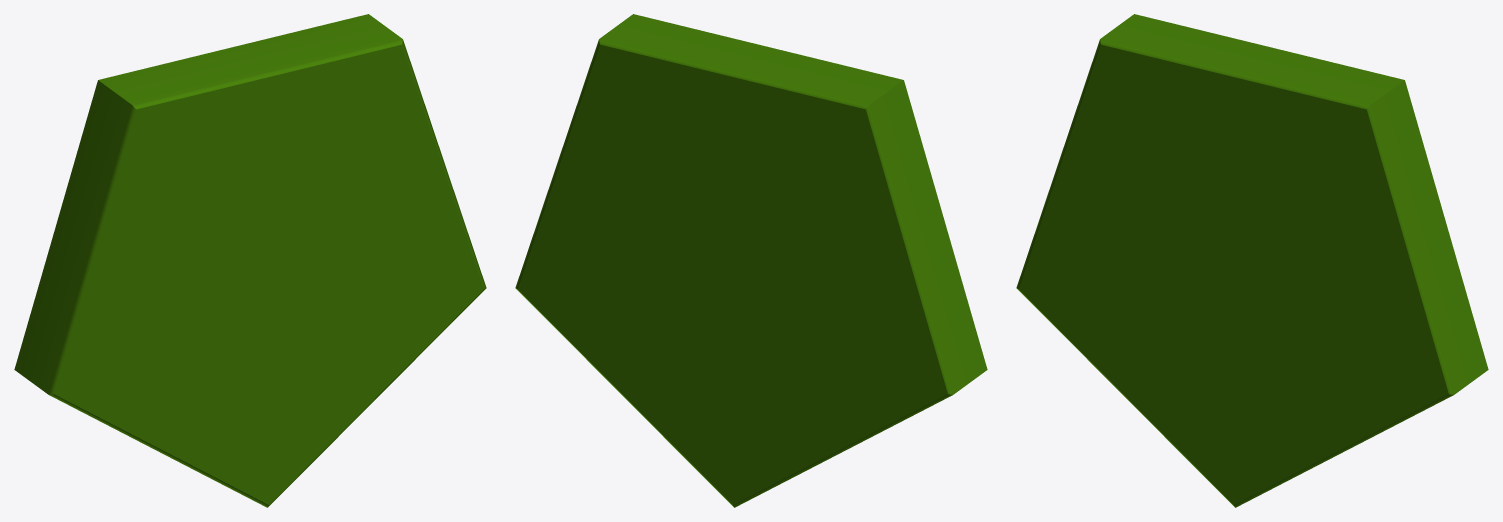
The model's file is Code_Cylinder_5xFaces.fbx.
3 views of the same model, side by side, from view 1: azimuth 30°, elevation 25°; view 2: azimuth 150°, elevation 25°; view 3: azimuth 330°, elevation 25° (orthographic).
Parts seen in each view (by area): view 1: Code_Cylinder_5xFaces; view 2: Code_Cylinder_5xFaces; view 3: Code_Cylinder_5xFaces.
Boxes of the visible parts, left/top/right/bottom form: Code_Cylinder_5xFaces: left=14, top=14, right=486, bottom=507; Code_Cylinder_5xFaces: left=515, top=14, right=987, bottom=507; Code_Cylinder_5xFaces: left=1016, top=14, right=1488, bottom=507.
Bounding box in the file's own units: 48.75 × 46.36 × 7.19.
